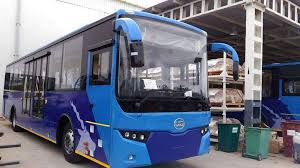Chigari: (4, 7, 244, 168)
